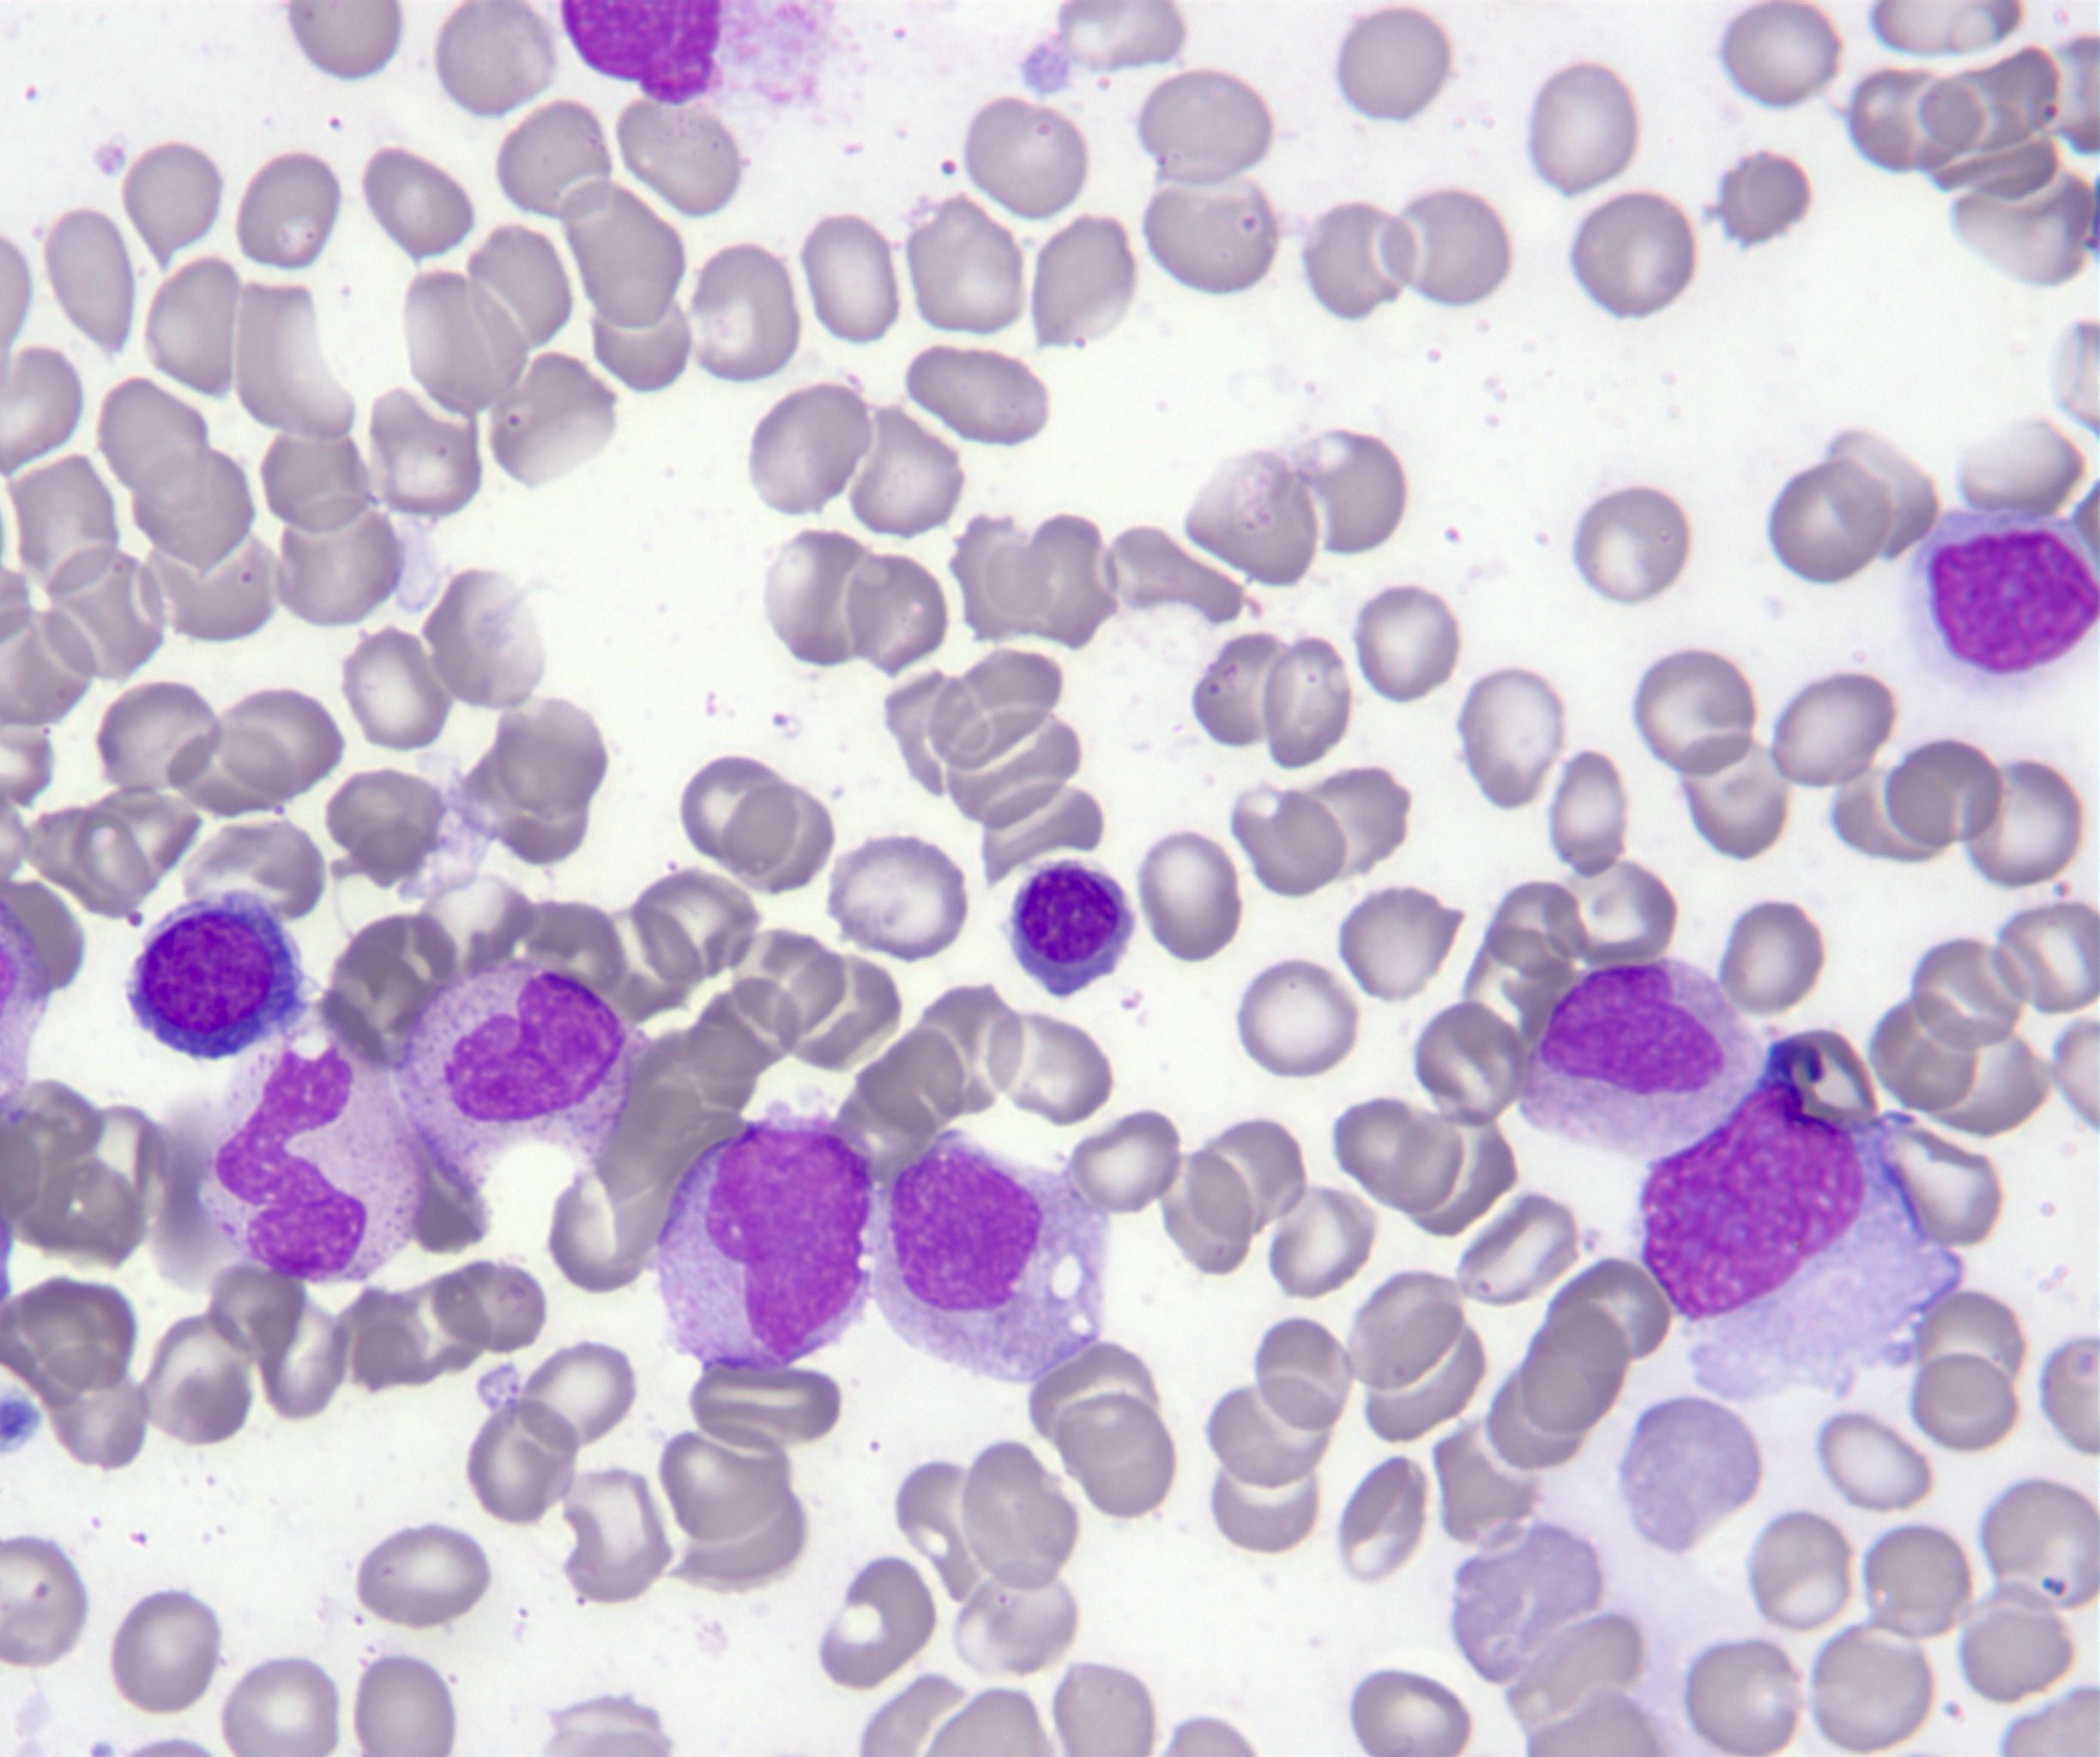23: (127, 890, 300, 1061)
24: (1010, 860, 1134, 998)
3: (1641, 1082, 1964, 1396), (870, 1131, 1106, 1385), (658, 1101, 876, 1371)
4: (392, 963, 651, 1195), (1521, 956, 1769, 1160)
5: (195, 1002, 431, 1282)
x: (1906, 508, 2100, 696), (562, 0, 839, 108)
